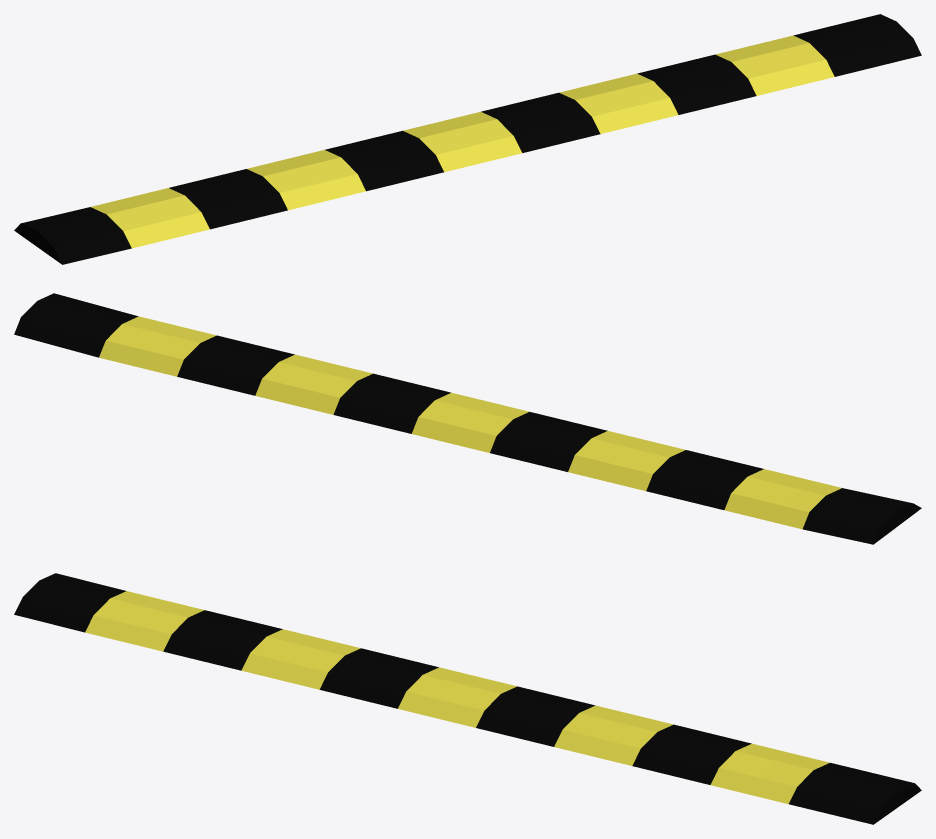
File: limit_breaker.fbx
3 renders of one model, top to bottom at view 1: azimuth 30°, elevation 25°; view 2: azimuth 150°, elevation 25°; view 3: azimuth 330°, elevation 25°, orthographic.
Visible parts, largest first — view 1: Limit Breaker; view 2: Limit Breaker; view 3: Limit Breaker.
Part boxes in pixels (x1,y1,x2,y2): Limit Breaker: (14, 14, 921, 264); Limit Breaker: (14, 293, 921, 544); Limit Breaker: (14, 573, 921, 824).
Bounding box in the file's own units: 500 × 10 × 50.
